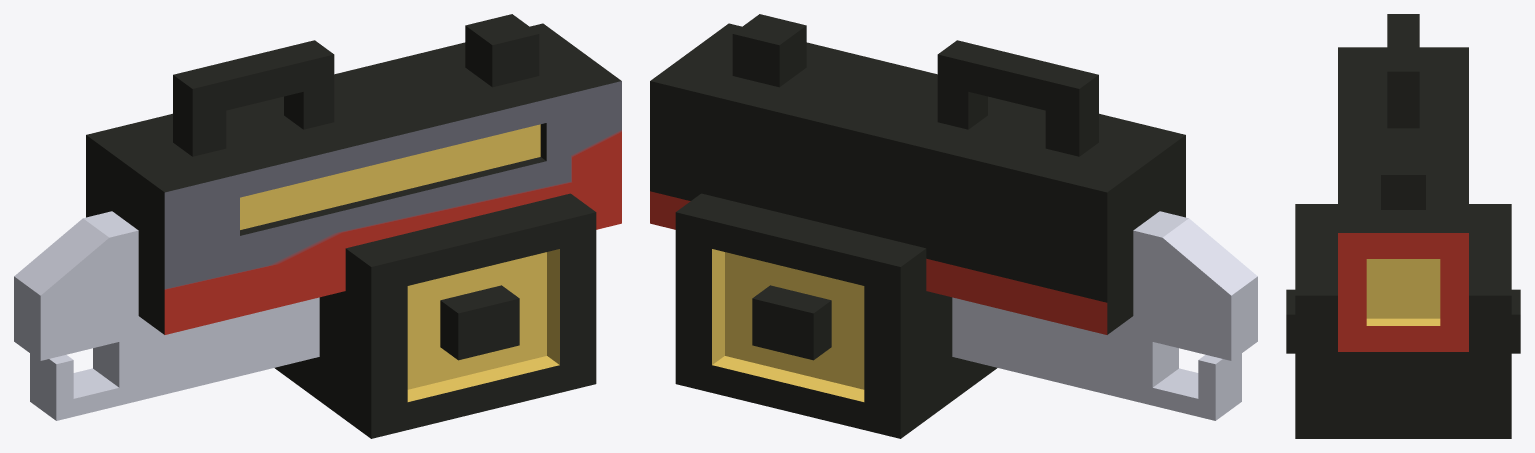
The model's file is KrotGun3.fbx.
3 renders of one model, left to right at view 1: azimuth 30°, elevation 25°; view 2: azimuth 150°, elevation 25°; view 3: azimuth 270°, elevation 25°, orthographic. The views are drawn at different scales.
Visible parts, largest first — view 1: Cube.002; view 2: Cube.002; view 3: Cube.002.
Part boxes in pixels (x1,y1,x2,y2): Cube.002: (14,14,621,438); Cube.002: (650,14,1257,438); Cube.002: (1286,14,1520,438).
Bounding box in the file's own units: 216 × 493 × 289.
